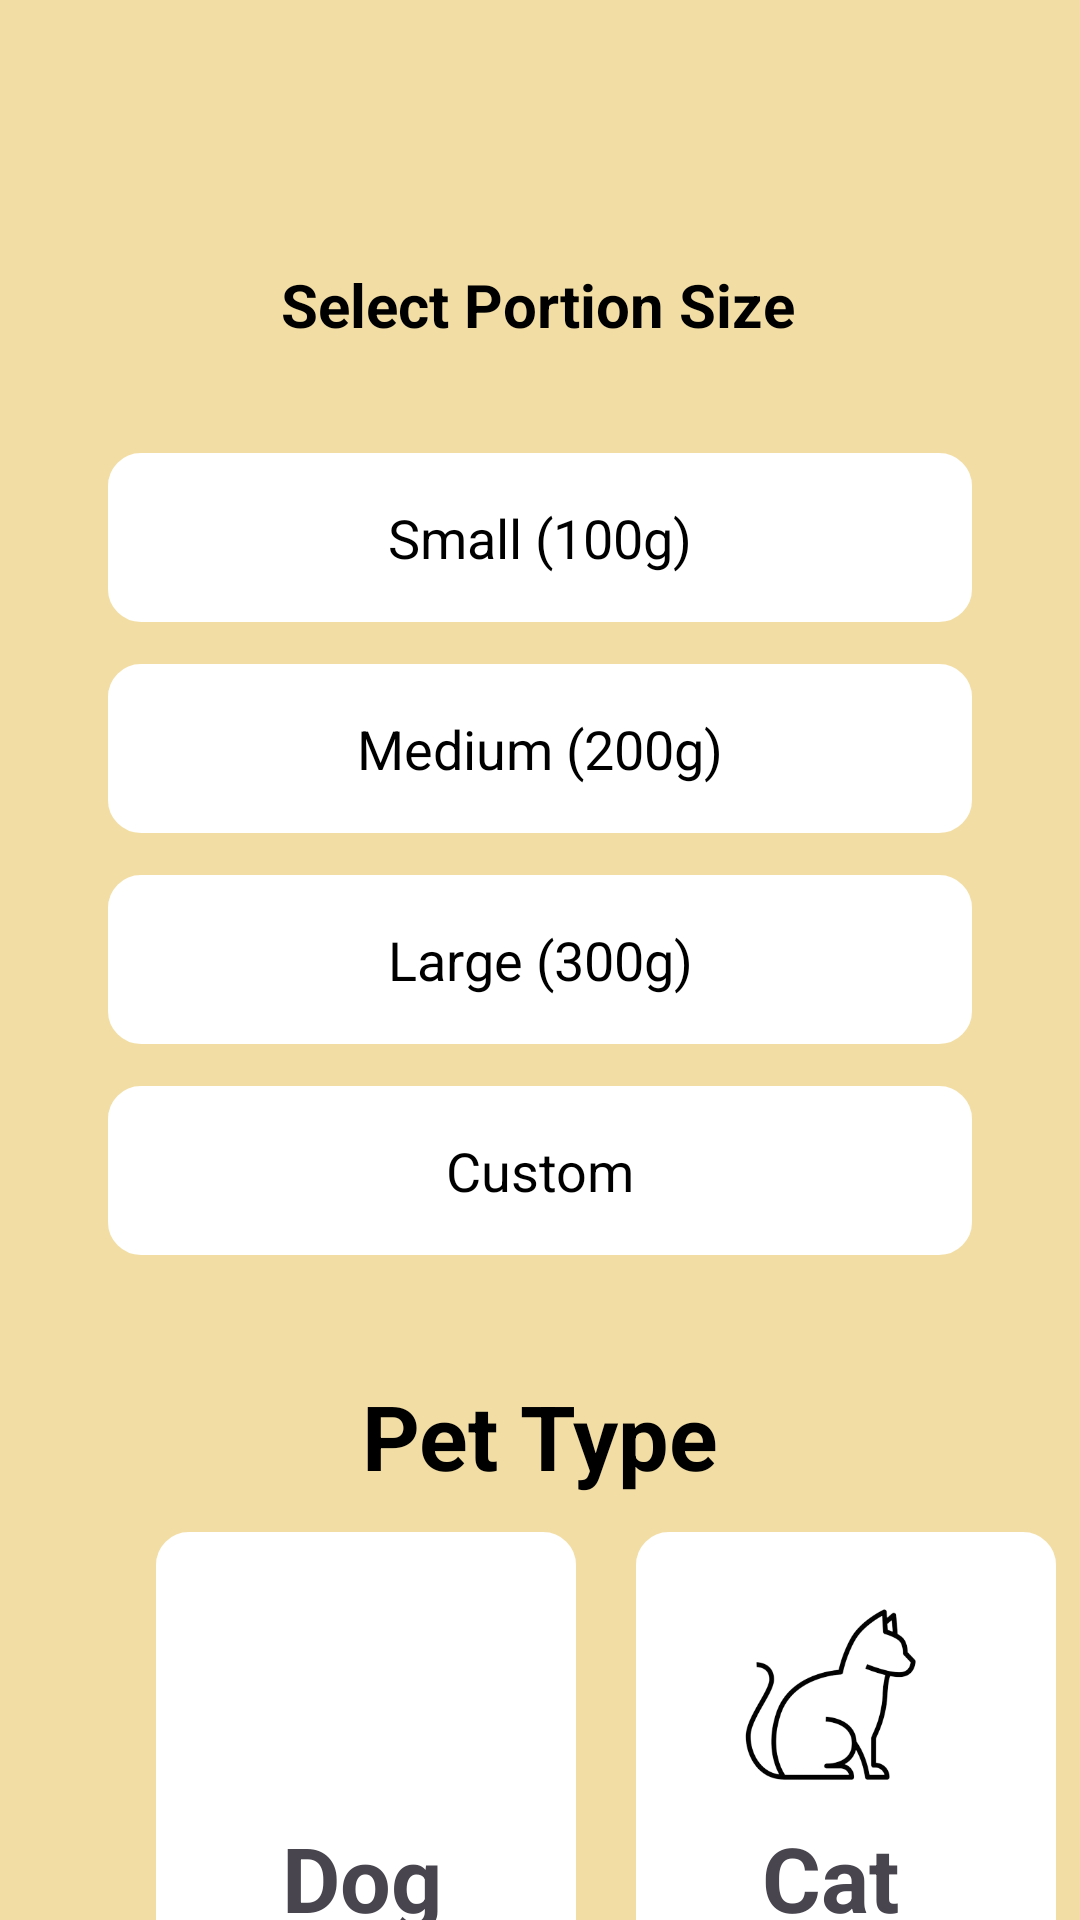

Point at icon controls on the screen. Image size 1080w x 1920h, points as [x,y].
caticon: [830,1694]
